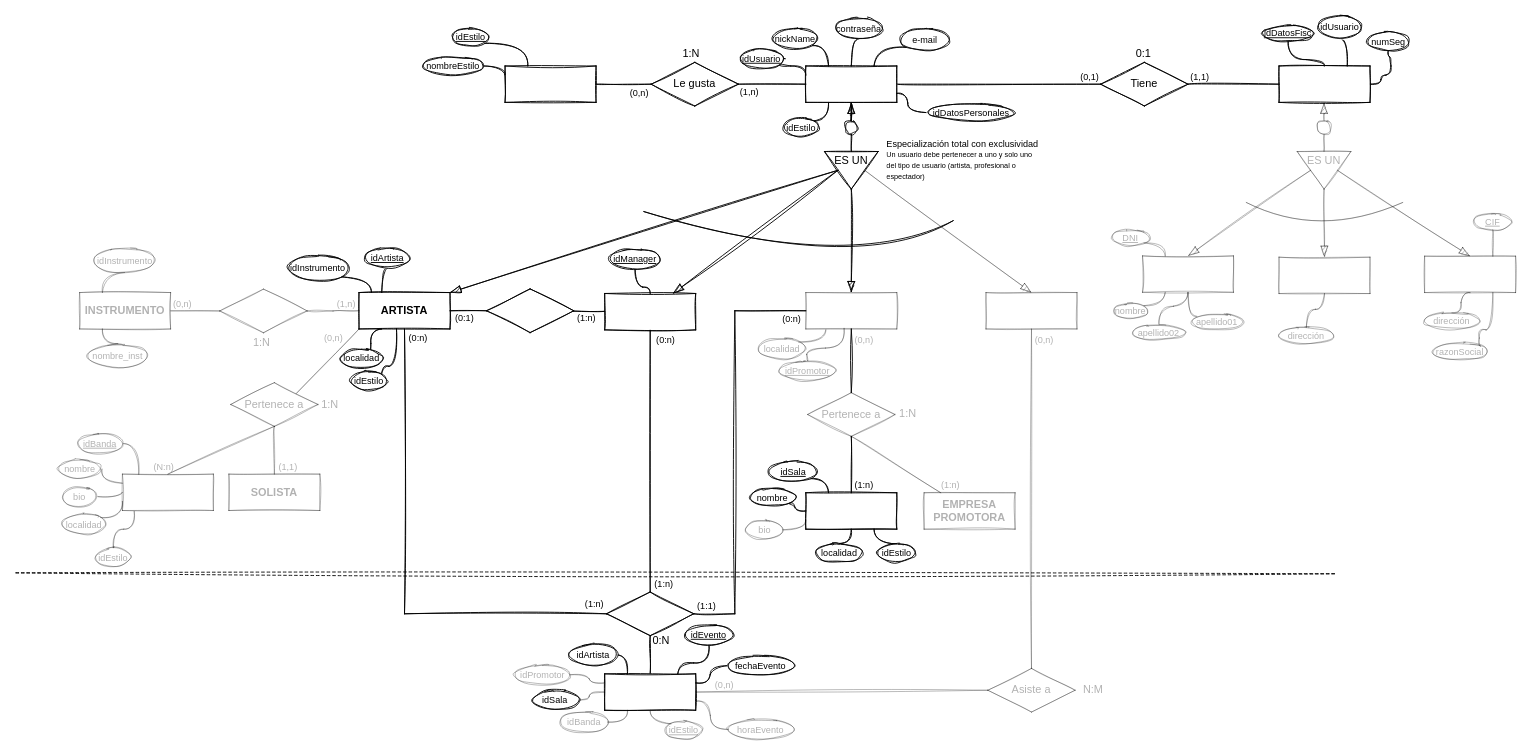
Image size: 1532x756. Some labels were removed from this diagram. The centre of each missing label's shape, as x and y in pixels:
BANDA: point (167, 492)
DATOS PERSONALES: point (1324, 83)
EMPRESA: point (1470, 274)
ESPECTADOR: point (1031, 310)
ESTILO MUSICA: point (550, 83)
EVENTOS: point (650, 691)
FREELANCE: point (1188, 273)
MANAGER: point (650, 311)
Organizan: point (650, 613)
PERSONA FÍSICA: point (1324, 275)
PROMOTOR: point (851, 310)
Representa: point (529, 310)
SALA DE CONCIERTOS: point (851, 510)
Toca: point (263, 310)
USUARIO: point (851, 83)
